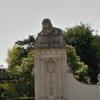Statue: (25, 11, 84, 63)
